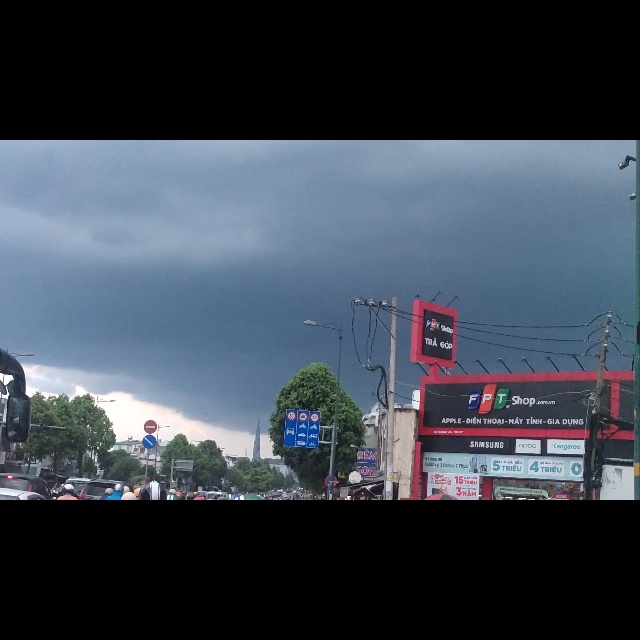bien_cam: (285, 477, 320, 551), (142, 523, 157, 549), (144, 497, 157, 523)
